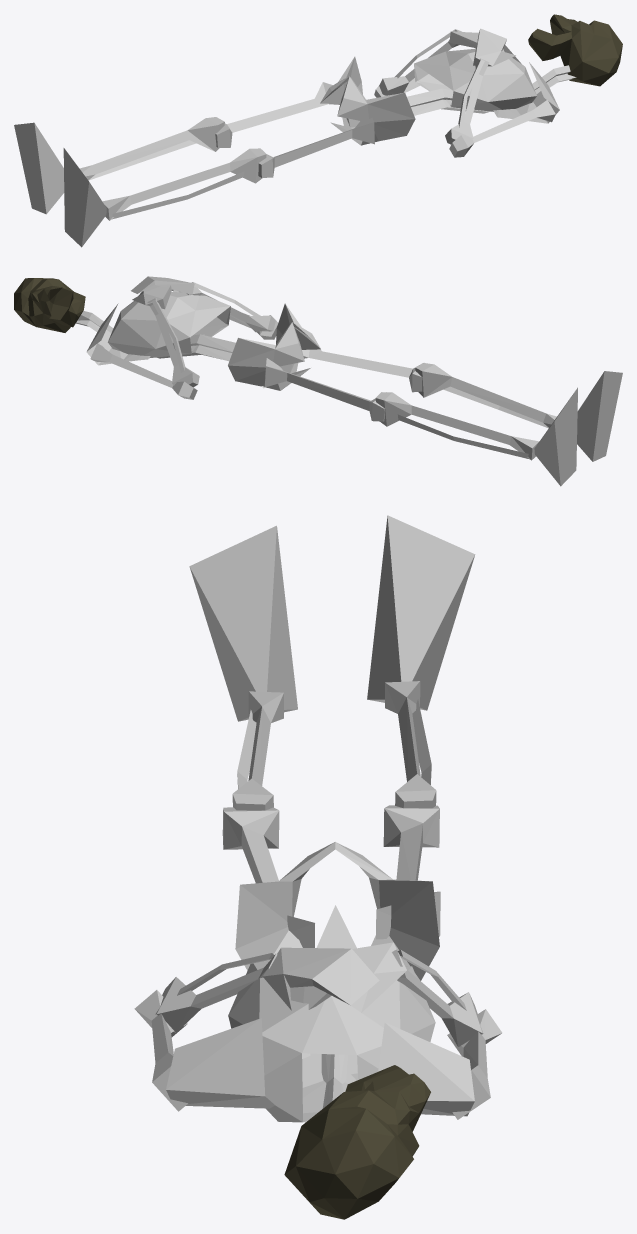
The model's file is NW_MISC_SKELETON_03.OBJ.
3 renders of one model, top to bottom at view 1: azimuth 30°, elevation 25°; view 2: azimuth 150°, elevation 25°; view 3: azimuth 270°, elevation 25°, orthographic. The views are drawn at different scales.
Visible parts, largest first — view 1: NW_MISC_SKELETON_03; view 2: NW_MISC_SKELETON_03; view 3: NW_MISC_SKELETON_03.
Boxes of the visible parts, x1=… form: NW_MISC_SKELETON_03: x1=14, y1=14, x2=622, y2=247; NW_MISC_SKELETON_03: x1=14, y1=276, x2=622, y2=486; NW_MISC_SKELETON_03: x1=134, y1=515, x2=502, y2=1219.
Size of the model in its own units: 1.83 by 0.3029 by 0.5122.
